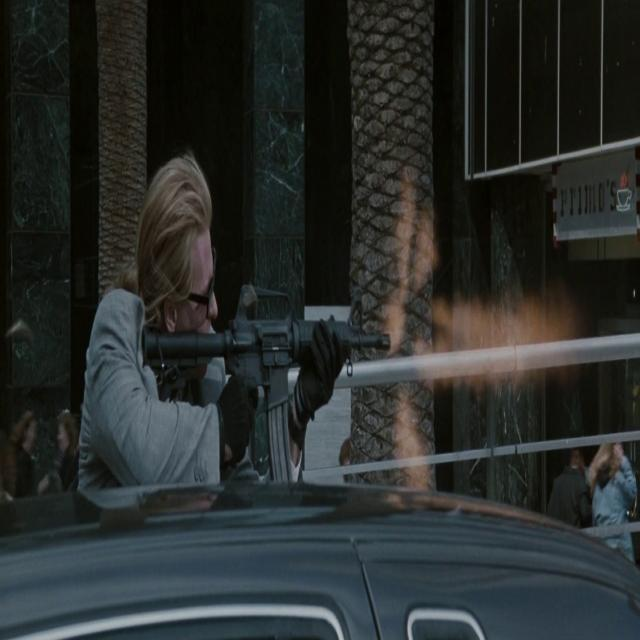gun-knife-thesis - v11 Yolov5 augmented: (138, 275, 390, 492)
